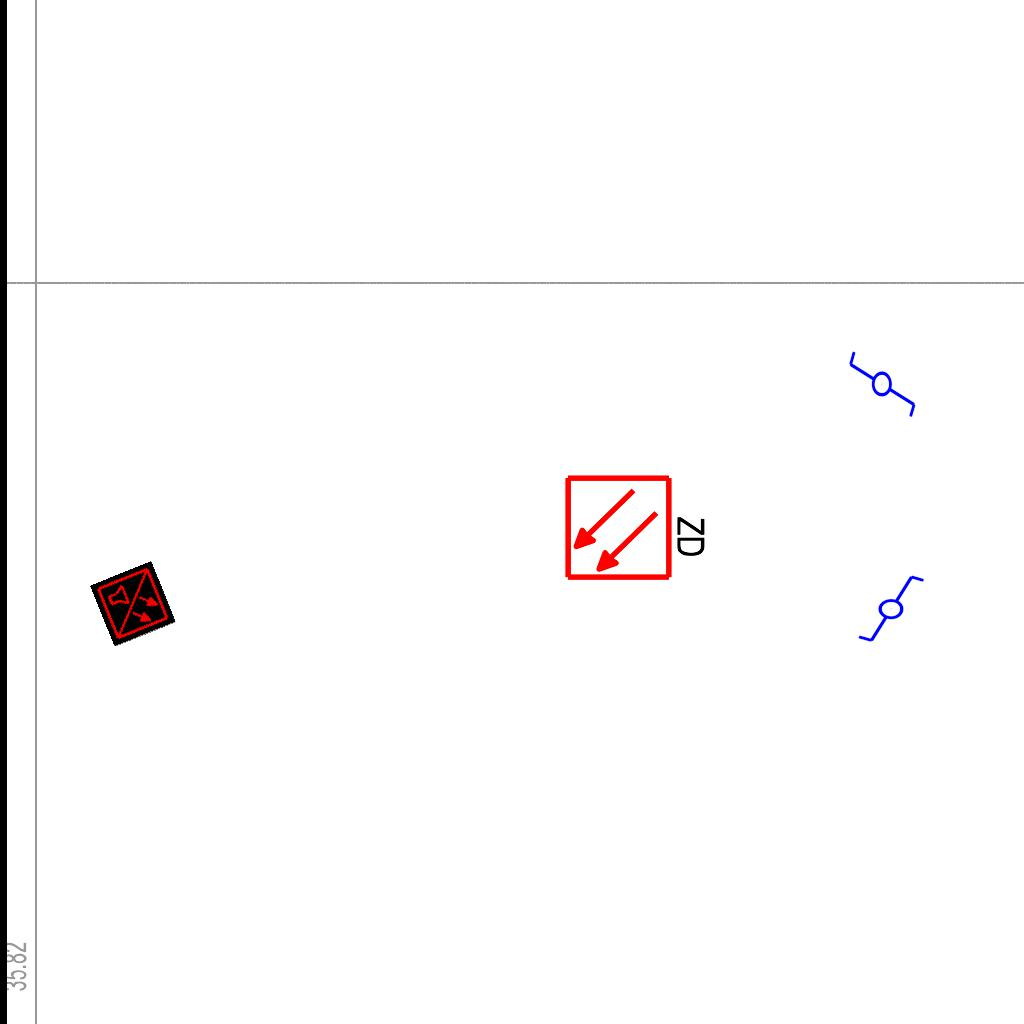OKW_Multisensormelder_(Kombination_optischer_Rauch-Kahlenmonoxid_Waerme-Melder): (90, 561, 176, 647)
Wechselschalter: (847, 341, 919, 419), (848, 572, 926, 644)
ZD_Melder_in_Zwischendecke_mit_Revisionsoeffnung_mind_40_x_40_cm: (563, 469, 712, 583)
